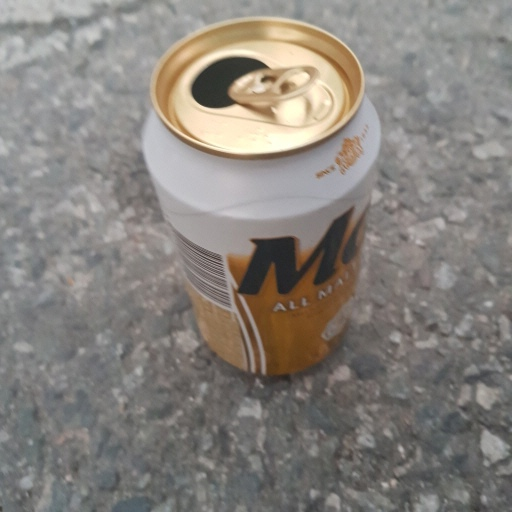Metal_0: (139, 14, 381, 379)
